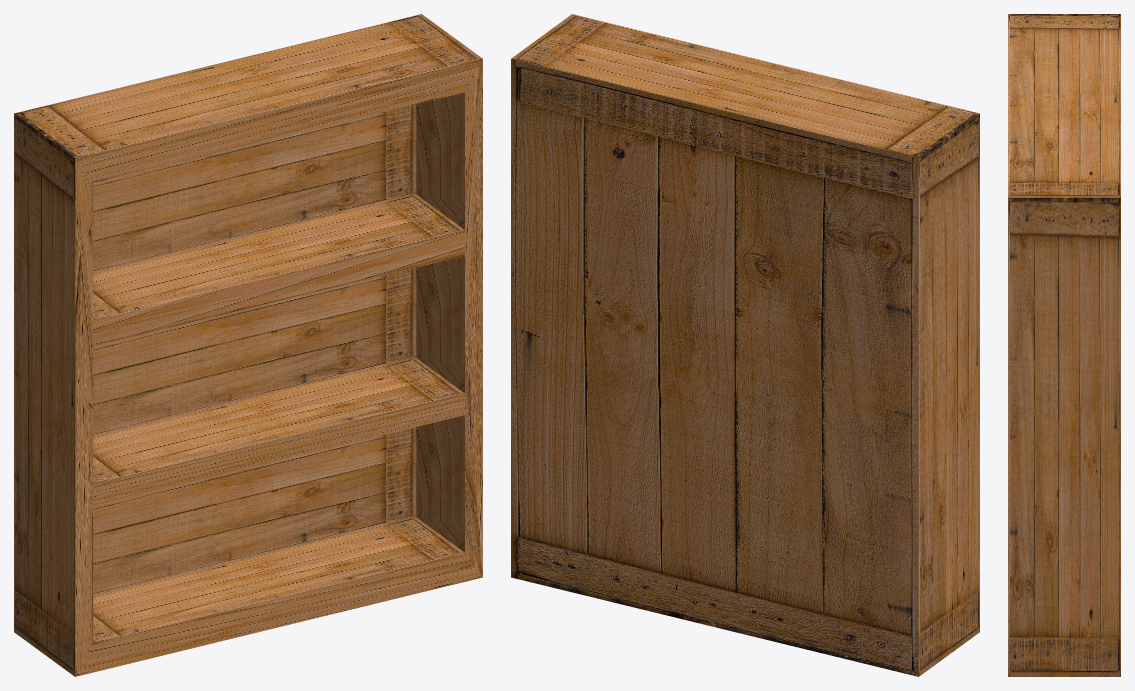
Rendered from bookshelf.fbx.
3 views of the same model, side by side, from view 1: azimuth 30°, elevation 25°; view 2: azimuth 150°, elevation 25°; view 3: azimuth 270°, elevation 25° (orthographic). The views are drawn at different scales.
Visible parts, largest first — view 1: Cube; view 2: Cube; view 3: Cube.
Boxes of the visible parts, x1=… form: Cube: x1=14, y1=14, x2=482, y2=676; Cube: x1=511, y1=14, x2=979, y2=676; Cube: x1=1008, y1=14, x2=1120, y2=676.
Size of the model in its own units: 627 by 763 by 163.
